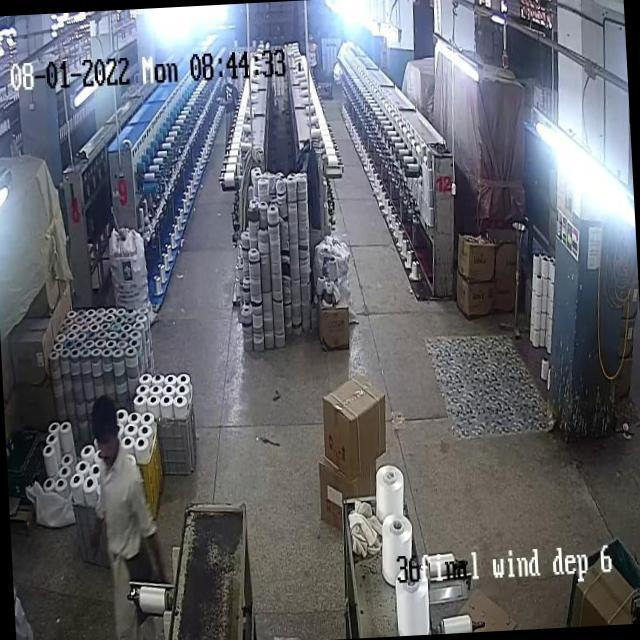person: (91, 399, 163, 622), (224, 74, 244, 146), (306, 32, 322, 88)
